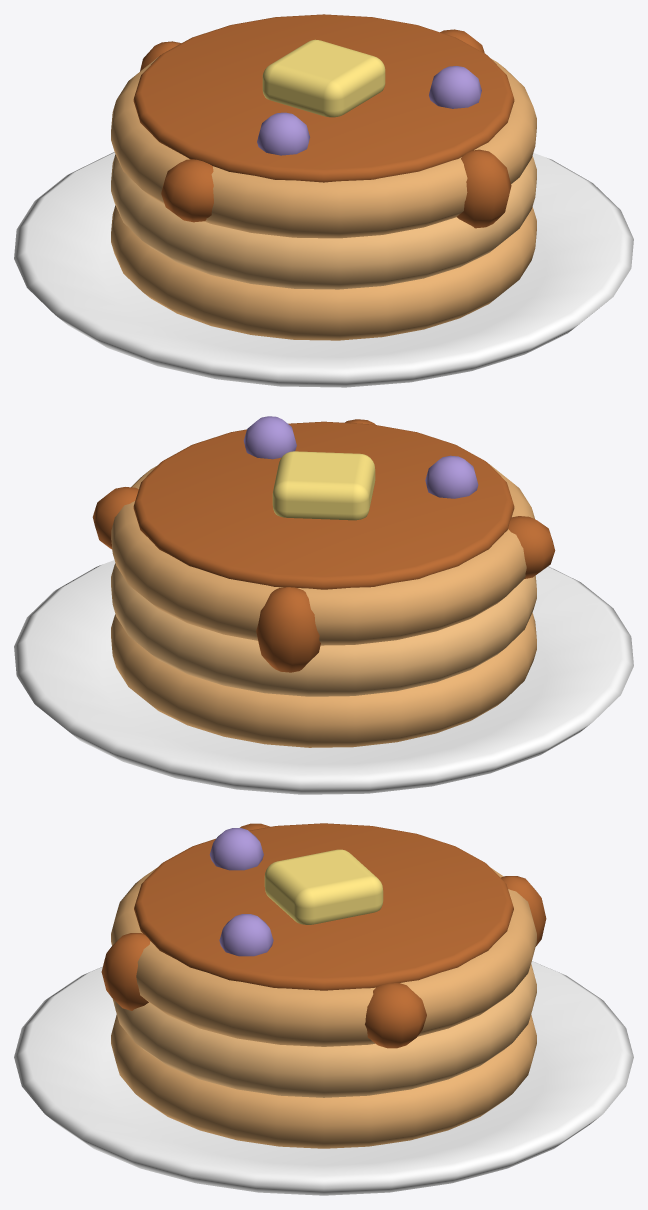
Rendered from food_pancakes.glb.
3 renders of one model, top to bottom at view 1: azimuth 30°, elevation 25°; view 2: azimuth 150°, elevation 25°; view 3: azimuth 270°, elevation 25°, orthographic.
Visible parts, largest first — view 1: Pancakes; view 2: Pancakes; view 3: Pancakes.
Boxes of the visible parts, <box> form: Pancakes: <box>14,14,633,387</box>; Pancakes: <box>14,416,633,794</box>; Pancakes: <box>14,823,633,1195</box>.
Size of the model in its own units: 0.32 by 0.127 by 0.32.
